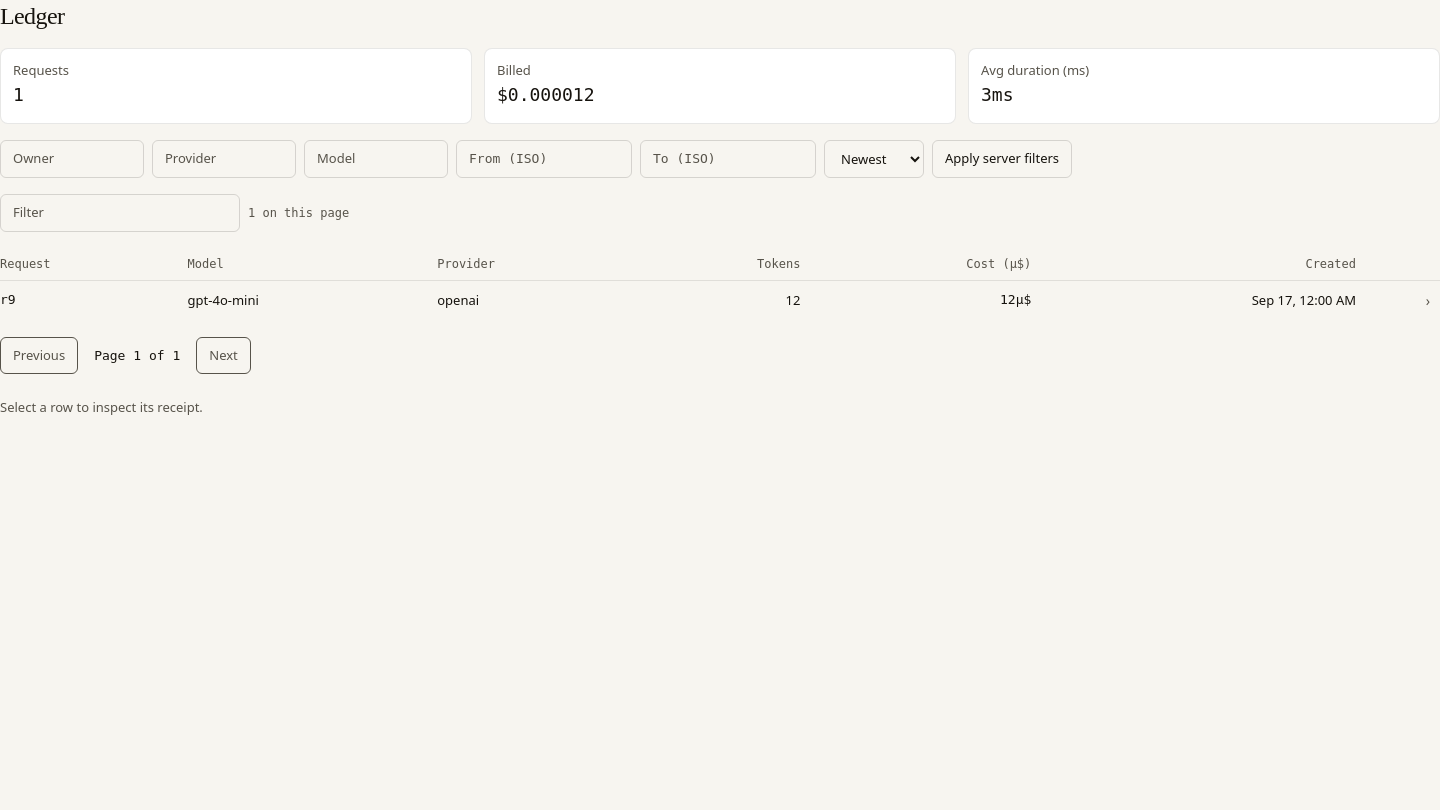
Test case: LedgerPage › reports clipboard absence inline instead of failing silently
The image size is (1440, 810).
Click the button named "inspect receipt r9": (1428, 300) [1416,288,1439,312]
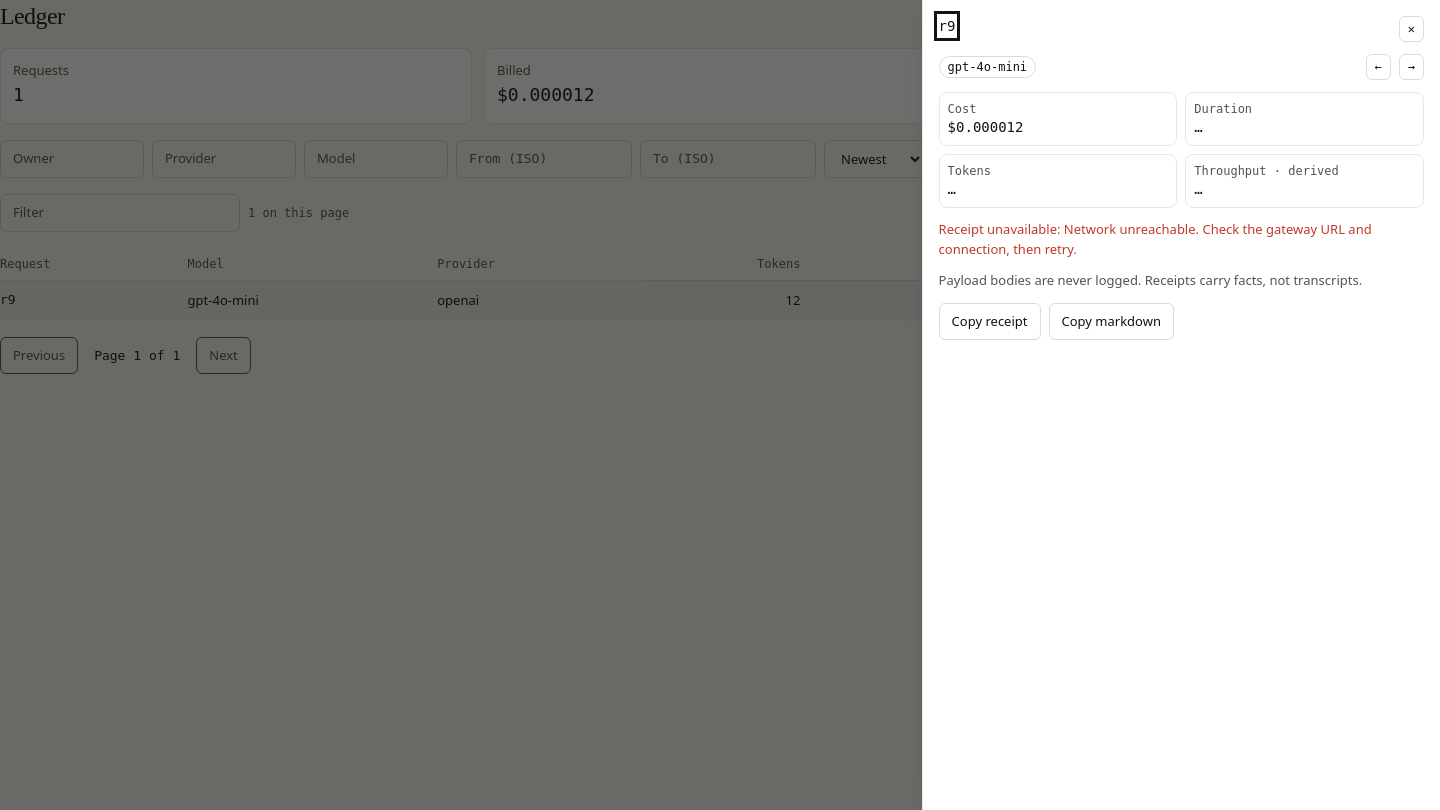
Click the button "Copy receipt": (990, 321) [939,302,1040,340]
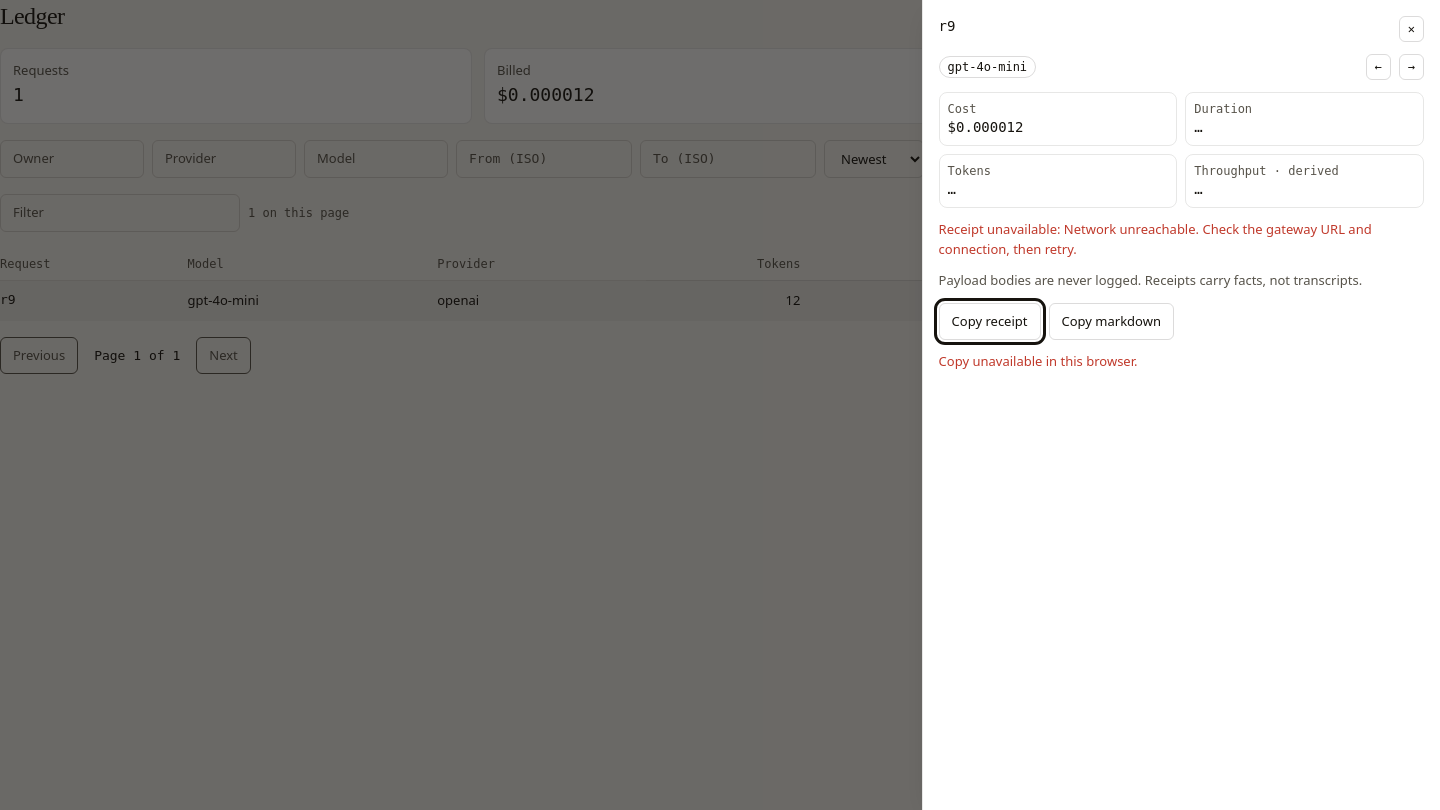
Result: the text "Copy unavailable in this browser." is shown at [939,352,1138,370]
